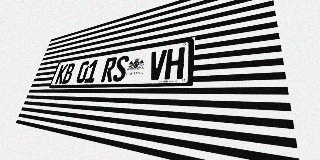0: (75, 61, 90, 83)
1: (84, 59, 100, 83)
B: (62, 63, 76, 84)
H: (164, 47, 185, 80)
K: (55, 64, 68, 84)
R: (101, 57, 118, 82)
S: (112, 55, 130, 82)
V: (147, 49, 167, 80)
